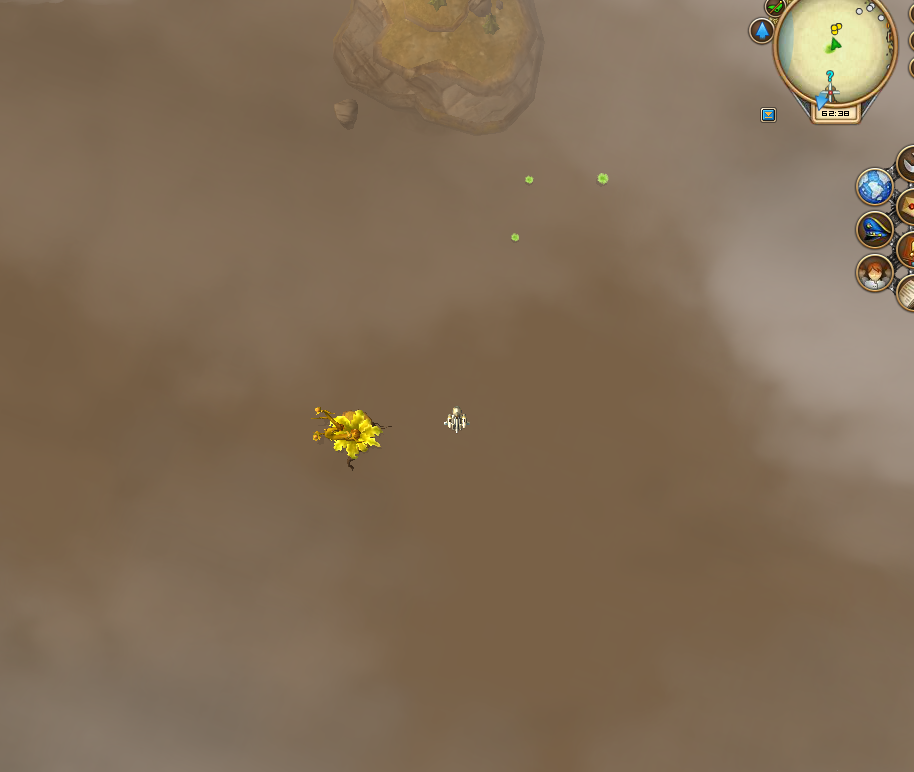dandelion-empty: (302, 395, 394, 474)
fluff: (502, 227, 524, 247), (594, 167, 612, 190), (519, 172, 537, 187)
